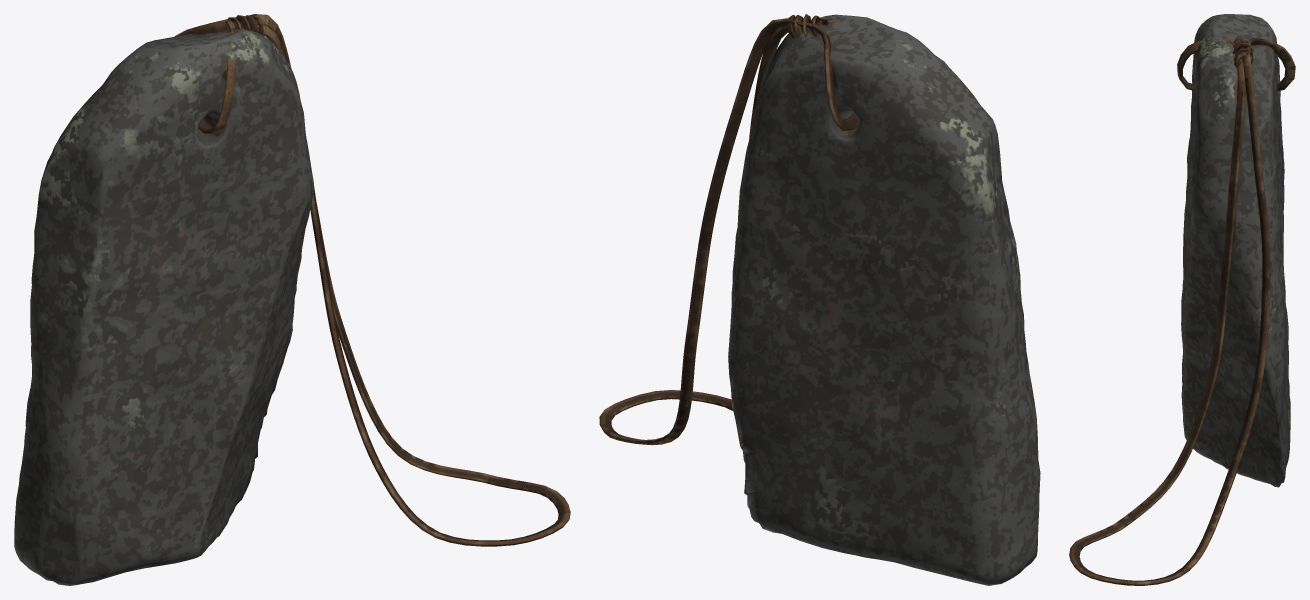
File: SM_RuneStone.glb
The picture shows the model from 3 angles, left to right: view 1: azimuth 30°, elevation 25°; view 2: azimuth 150°, elevation 25°; view 3: azimuth 270°, elevation 25°; orthographic projection. The views are drawn at different scales.
Parts seen in each view (by area): view 1: SM_RuneStone; view 2: SM_RuneStone; view 3: SM_RuneStone.
Part boxes in pixels (<box>): SM_RuneStone: <box>14,14,570,585</box>; SM_RuneStone: <box>599,14,1040,585</box>; SM_RuneStone: <box>1069,14,1295,585</box>.
Bounding box in the file's own units: 0.2143 × 0.2185 × 0.1015.
1 material, 1 textured.
